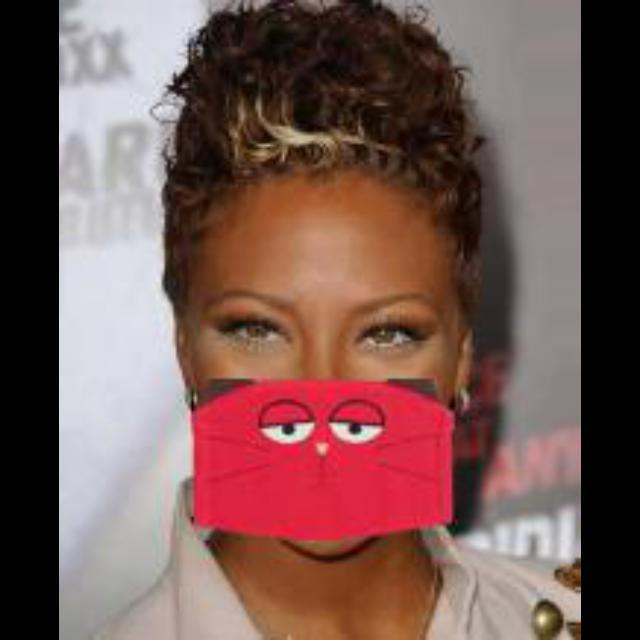suspicion: (152, 79, 506, 557)
